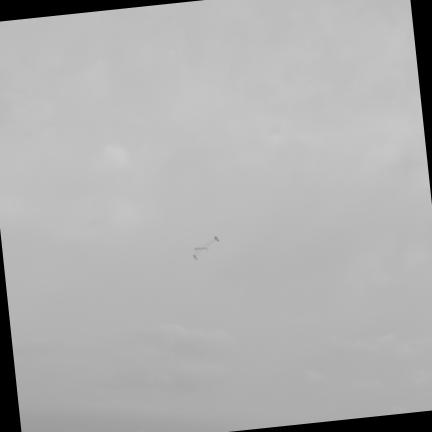Shahed: (193, 236, 218, 259)
